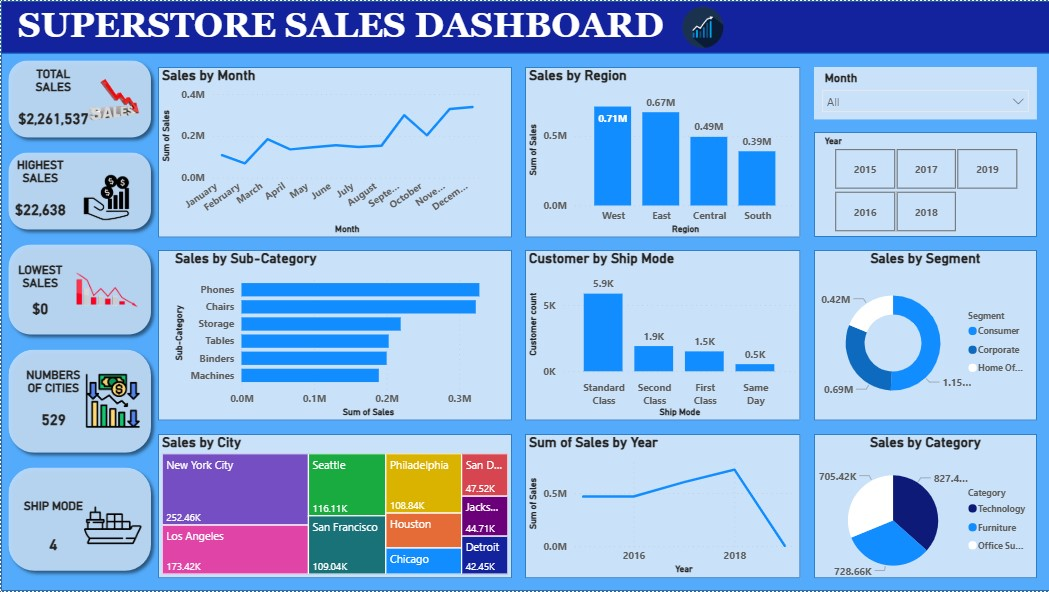

The page's visual inventory and layout, read from the dashboard file:
{"tool":"powerbi","page":{"name":"Page 1","canvas":[1280,720],"ordinal":0},"visuals":[{"type":"shape","box":[0,0,1280,720],"z":0},{"type":"shape","box":[0,0,1280,64],"z":1000},{"type":"textbox","box":[16,0,816,80],"z":2000},{"type":"shape","box":[0,64,192,112],"z":3000},{"type":"shape","box":[0,288,192,128],"z":4000},{"type":"shape","box":[0,416,192,144],"z":5000},{"type":"shape","box":[0,560,192,144],"z":6000},{"type":"shape","box":[640,80,336,208],"z":7000},{"type":"shape","box":[192,80,432,208],"z":8000},{"type":"shape","box":[192,304,432,208],"z":9000},{"type":"shape","box":[640,304,336,208],"z":10000},{"type":"lineChart","title":" Sales by Month","fields":{"Y":["Sum(train.Sales)"],"Category":["train.Ship Date.Variation.Date Hierarchy.Month"]},"box":[192,80,400,208],"z":11000},{"type":"shape","box":[640,528,336,176],"z":12000},{"type":"shape","box":[992,528,272,176],"z":13000},{"type":"shape","box":[992,304,272,208],"z":14000},{"type":"shape","box":[992,160,272,128],"z":15000},{"type":"shape","box":[192,528,432,176],"z":16000},{"type":"clusteredBarChart","title":"Sales by Sub-Category","fields":{"Y":["Sum(train.Sales)"],"Category":["train.Sub-Category"]},"box":[208,304,416,208],"z":17000},{"type":"columnChart","title":"Sales by Region","fields":{"Y":["Sum(train.Sales)"],"Category":["train.Region"]},"box":[640,80,336,208],"z":18000},{"type":"shape","box":[0,176,192,112],"z":19000},{"type":"clusteredColumnChart","title":"Customer by Ship Mode","fields":{"Y":["train.Customer count"],"Category":["train.Ship Mode"]},"box":[640,304,336,208],"z":20000},{"type":"lineChart","fields":{"Y":["Sum(train.Sales)"],"Category":["train.Ship Date.Variation.Date Hierarchy.Year"]},"box":[640,528,336,176],"z":21000},{"type":"treemap","title":" Sales by City","fields":{"Values":["Sum(train.Sales)"],"Details":["train.City"]},"box":[192,528,432,176],"z":22000},{"type":"pieChart","title":"Sales by Category","fields":{"Y":["Sum(train.Sales)"],"Category":["train.Category"]},"box":[992,528,272,192],"z":23000},{"type":"donutChart","title":"Sales by Segment","fields":{"Y":["Sum(train.Sales)"],"Category":["train.Segment"]},"box":[992,304,272,208],"z":24000},{"type":"slicer","fields":{"Values":["train.Ship Date.Variation.Date Hierarchy.Month"]},"box":[992,80,272,64],"z":25000},{"type":"slicer","fields":{"Values":["train.Ship Date.Variation.Date Hierarchy.Year"]},"box":[992,160,272,128],"z":26000},{"type":"card","title":"TOTAL SALES","fields":{"Values":["train.total sales"]},"box":[16,80,96,96],"z":27000},{"type":"card","title":"HIGHEST SALES","fields":{"Values":["train.Highest Sales"]},"box":[0,192,96,96],"z":28000},{"type":"card","title":"LOWEST SALES","fields":{"Values":["train.Lowest Sales"]},"box":[0,320,96,80],"z":29000},{"type":"card","title":"NUMBERS OF CITIES","fields":{"Values":["train.Nunmber of City"]},"box":[16,448,96,96],"z":30000},{"type":"card","title":"SHIP MODE","fields":{"Values":["train.count of ship"]},"box":[16,608,96,96],"z":31000},{"type":"image","box":[816,0,80,64],"z":32000},{"type":"image","box":[80,304,96,96],"z":33000},{"type":"image","box":[96,448,80,80],"z":34000},{"type":"image","box":[80,192,96,96],"z":35000},{"type":"image","box":[96,80,80,80],"z":36000},{"type":"image","box":[96,592,80,96],"z":37000}]}

Visuals, with their boxes in screenshot pixels (x1, y1, x2, y2), scaled from the page's 1280x720 canvas onto the 1049x592 screenshot:
shape: detection(0, 0, 1048, 591)
shape: detection(0, 0, 1048, 53)
textbox: detection(13, 0, 682, 66)
shape: detection(0, 53, 157, 145)
shape: detection(0, 237, 157, 342)
shape: detection(0, 342, 157, 460)
shape: detection(0, 460, 157, 579)
shape: detection(524, 66, 800, 237)
shape: detection(157, 66, 511, 237)
shape: detection(157, 250, 511, 421)
shape: detection(524, 250, 800, 421)
" Sales by Month" lineChart: detection(157, 66, 485, 237)
shape: detection(524, 434, 800, 579)
shape: detection(813, 434, 1036, 579)
shape: detection(813, 250, 1036, 421)
shape: detection(813, 132, 1036, 237)
shape: detection(157, 434, 511, 579)
"Sales by Sub-Category" clusteredBarChart: detection(170, 250, 511, 421)
"Sales by Region" columnChart: detection(524, 66, 800, 237)
shape: detection(0, 145, 157, 237)
"Customer by Ship Mode" clusteredColumnChart: detection(524, 250, 800, 421)
lineChart - Sum(train.Sales) x train.Ship Date.Variation.Date Hierarchy.Year: detection(524, 434, 800, 579)
" Sales by City" treemap: detection(157, 434, 511, 579)
"Sales by Category" pieChart: detection(813, 434, 1036, 591)
"Sales by Segment" donutChart: detection(813, 250, 1036, 421)
slicer - train.Ship Date.Variation.Date Hierarchy.Month: detection(813, 66, 1036, 118)
slicer - train.Ship Date.Variation.Date Hierarchy.Year: detection(813, 132, 1036, 237)
"TOTAL SALES" card: detection(13, 66, 92, 145)
"HIGHEST SALES" card: detection(0, 158, 79, 237)
"LOWEST SALES" card: detection(0, 263, 79, 329)
"NUMBERS OF CITIES" card: detection(13, 368, 92, 447)
"SHIP MODE" card: detection(13, 500, 92, 579)
image: detection(669, 0, 734, 53)
image: detection(66, 250, 144, 329)
image: detection(79, 368, 144, 434)
image: detection(66, 158, 144, 237)
image: detection(79, 66, 144, 132)
image: detection(79, 487, 144, 566)
